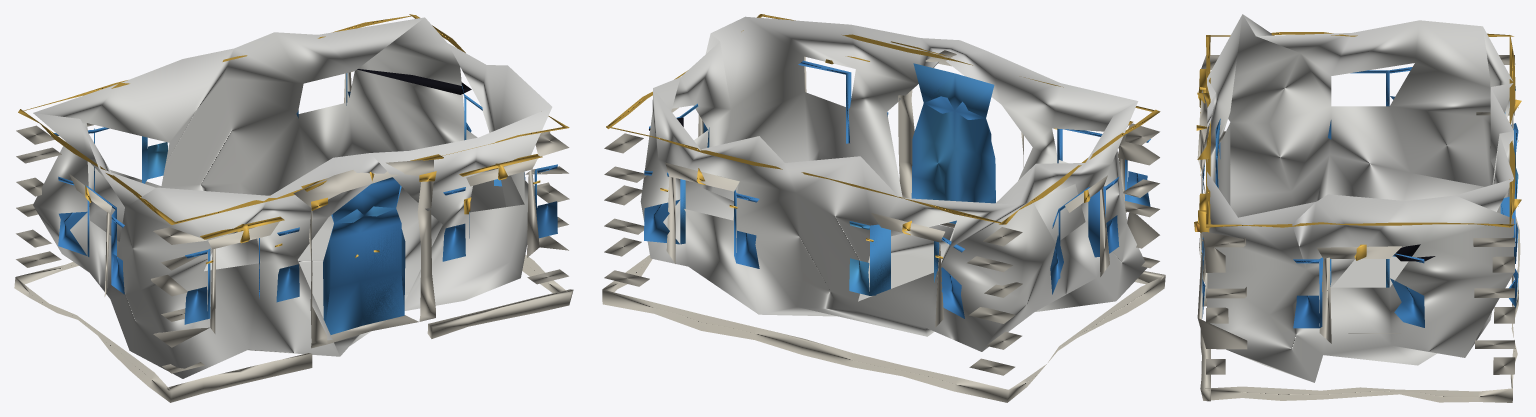
The model's file is home_villa-walls_t3_goldmarble.glb.
3 views of the same model, side by side, from view 1: azimuth 30°, elevation 25°; view 2: azimuth 150°, elevation 25°; view 3: azimuth 270°, elevation 25° (orthographic).
Visible parts, largest first — view 1: wall, wood, marble, base, gold, interior; view 2: wall, wood, marble, base, gold; view 3: wall, marble, base, wood, gold, interior.
Boxes of the visible parts, x1,y1,x2,y2 form: wall: [33, 17, 552, 378]; wood: [54, 73, 557, 334]; marble: [16, 72, 569, 373]; base: [14, 254, 573, 402]; gold: [18, 14, 569, 263]; interior: [357, 69, 471, 94]; wall: [640, 16, 1147, 351]; wood: [644, 60, 1150, 318]; marble: [604, 50, 1159, 375]; base: [602, 255, 1165, 402]; gold: [606, 14, 1160, 258]; wall: [1207, 14, 1513, 382]; marble: [1197, 55, 1515, 374]; base: [1200, 216, 1520, 402]; wood: [1202, 67, 1518, 328]; gold: [1194, 32, 1521, 260]; interior: [1394, 244, 1435, 261].
Size of the model in its own units: 6.48 by 2.98 by 4.49.
